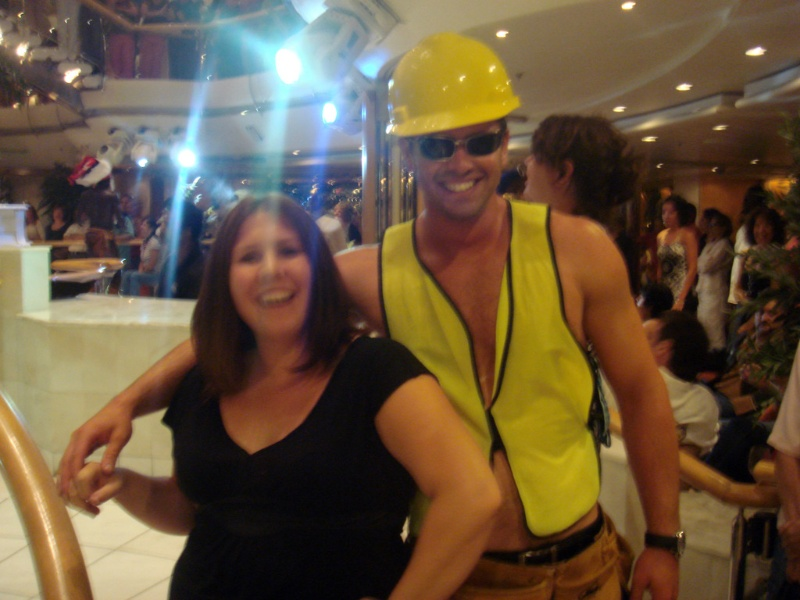Baret: (389, 29, 522, 134)
